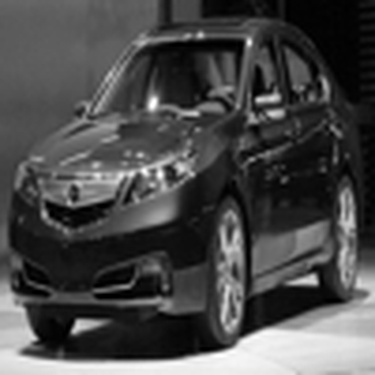car: (1, 3, 372, 372)
